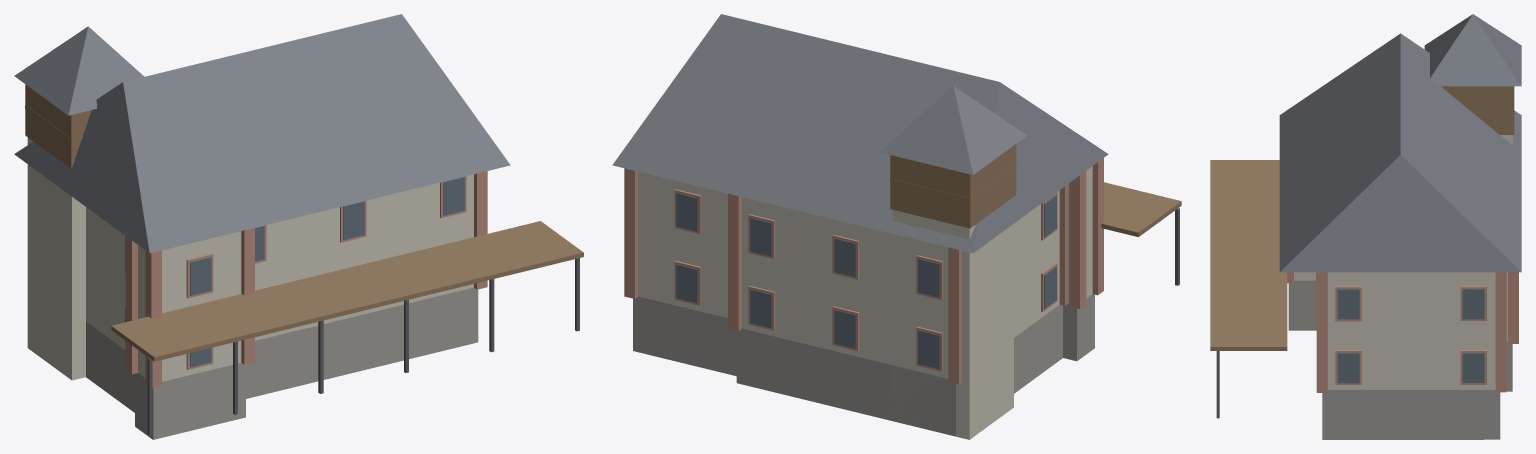
The model's file is landmark-kandern-bahnhof.glb.
The picture shows the model from 3 angles, left to right: view 1: azimuth 30°, elevation 25°; view 2: azimuth 150°, elevation 25°; view 3: azimuth 270°, elevation 25°; orthographic projection. The views are drawn at different scales.
Visible parts, largest first — view 1: building; view 2: building; view 3: building.
Part boxes in pixels (<box>): building: <box>14,14,583,439</box>; building: <box>612,14,1181,439</box>; building: <box>1210,14,1521,439</box>.
Size of the model in its own units: 20.18 by 14.7 by 14.14.
